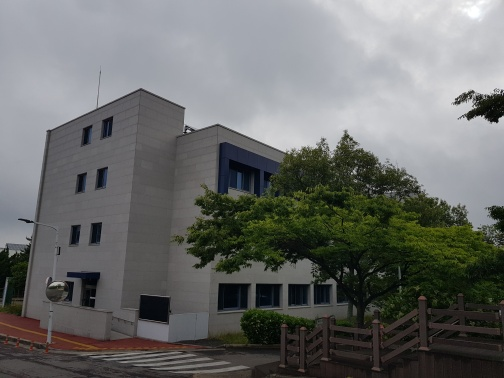College of Social Sciences: (21, 98, 342, 344)
